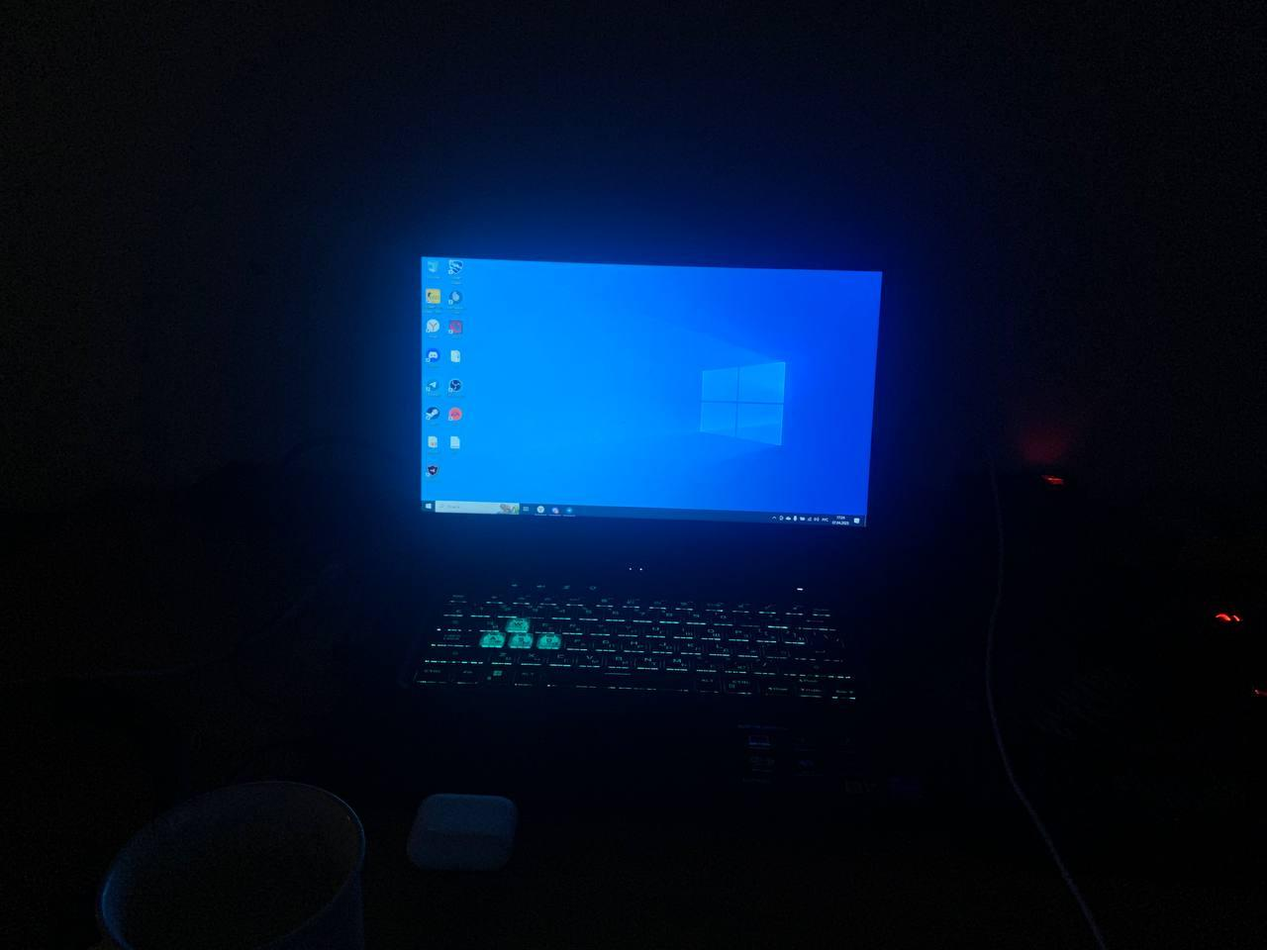monitor: (400, 238, 894, 577)
